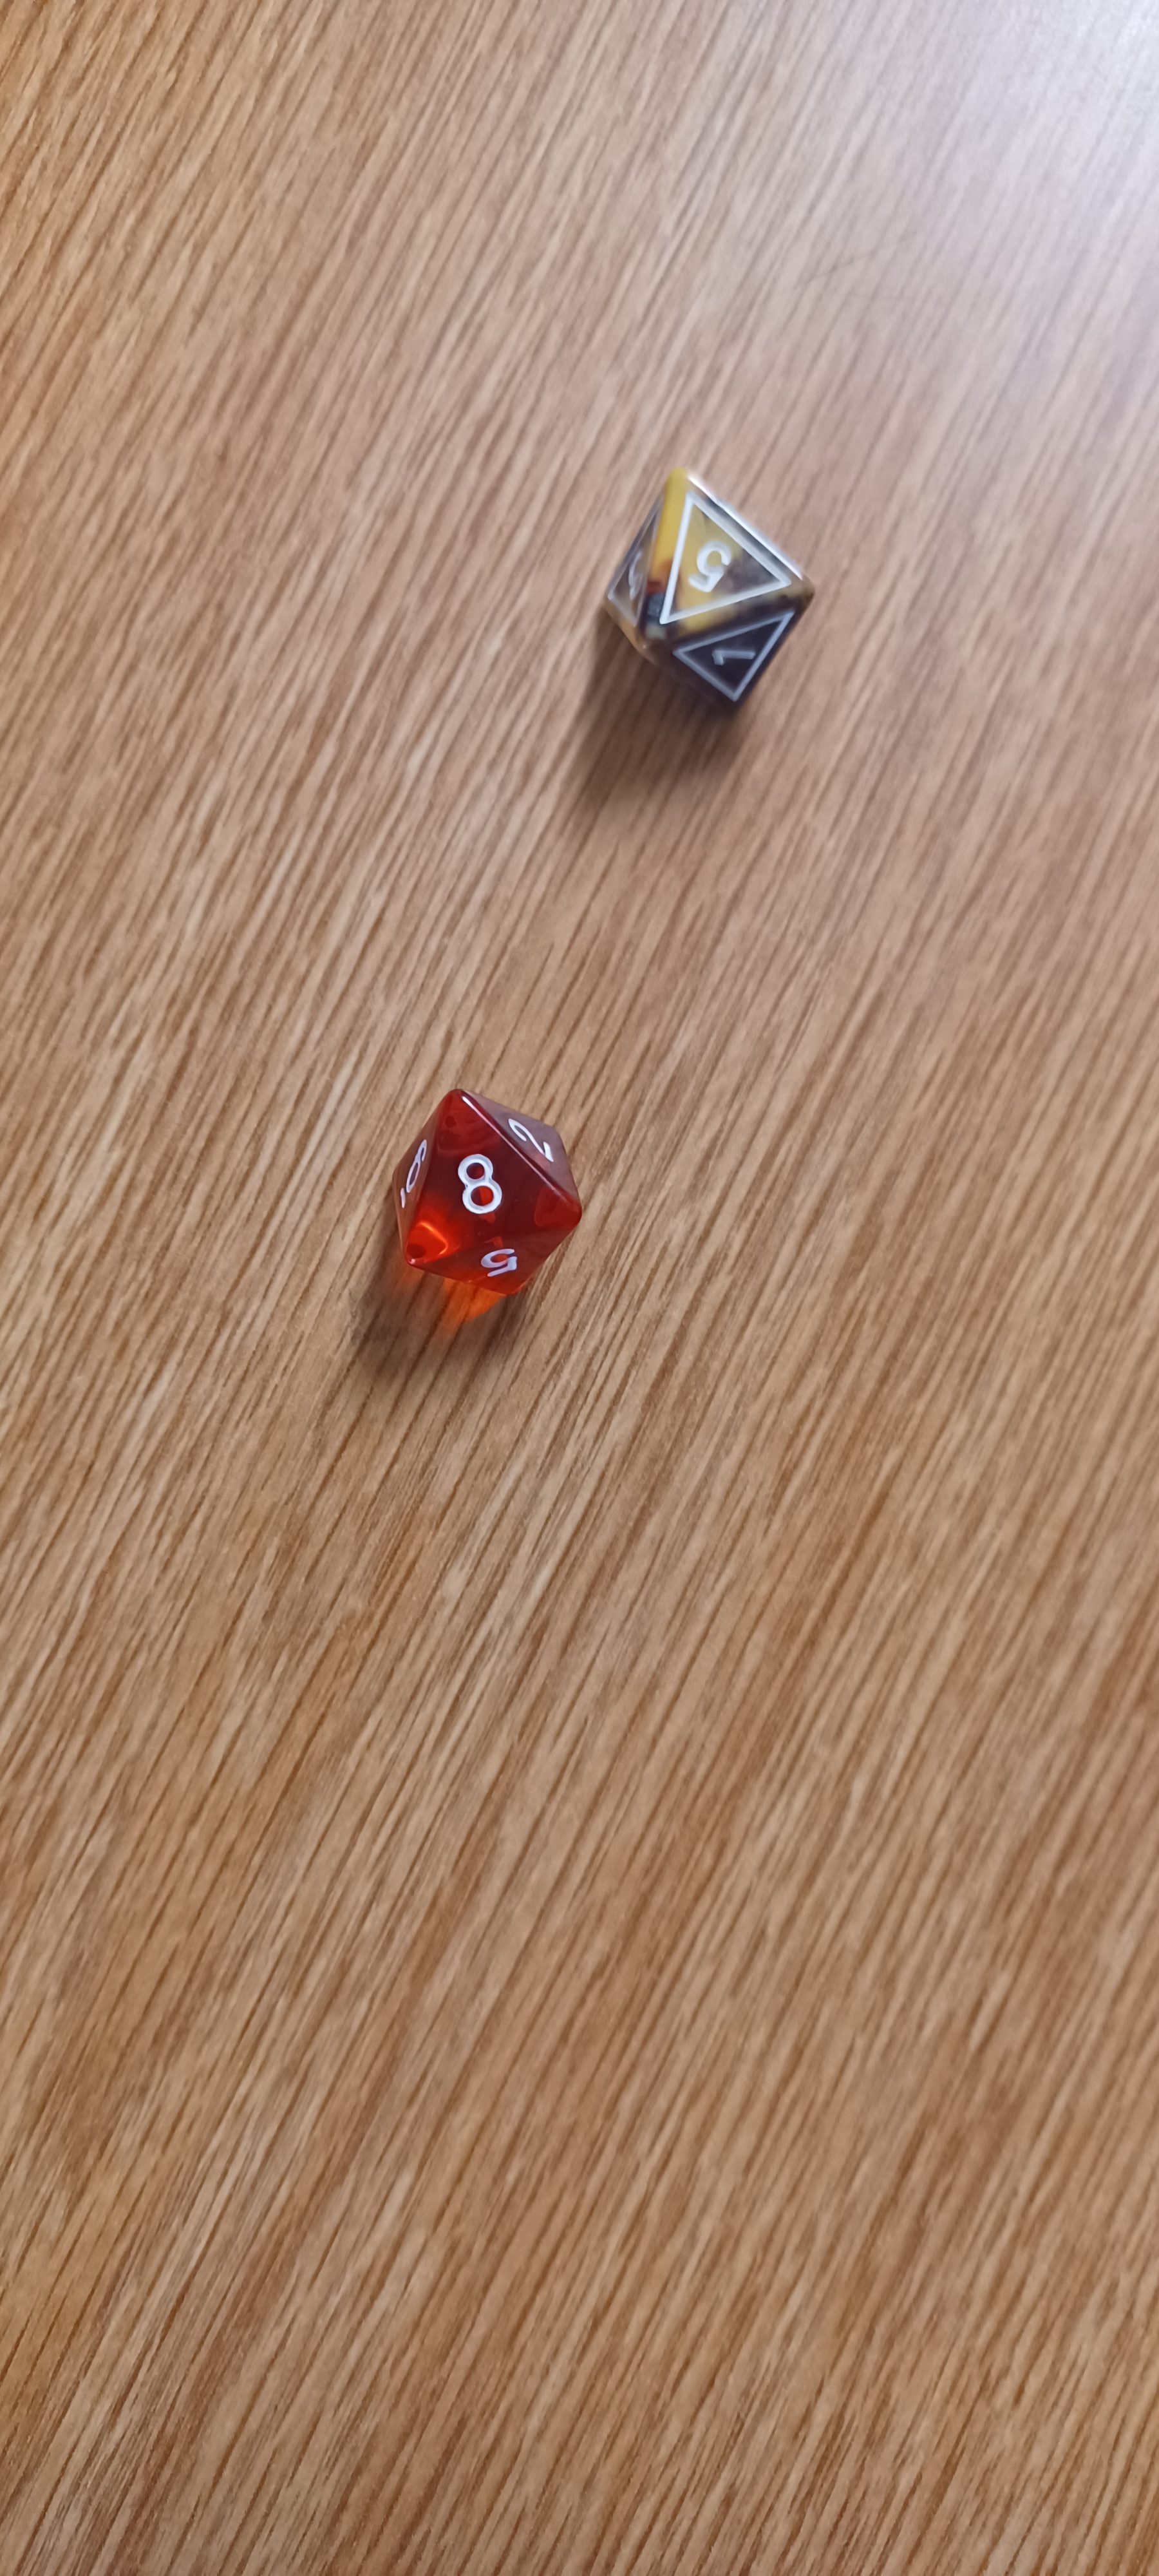eight: (320, 1069, 625, 1318)
five: (542, 453, 872, 736)
